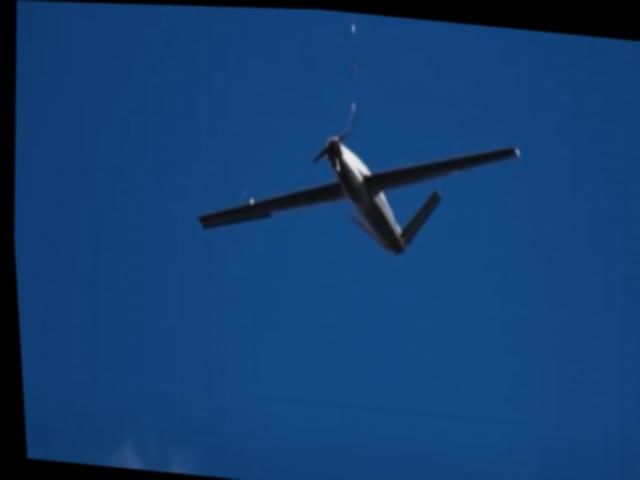iha: (187, 105, 539, 277)
